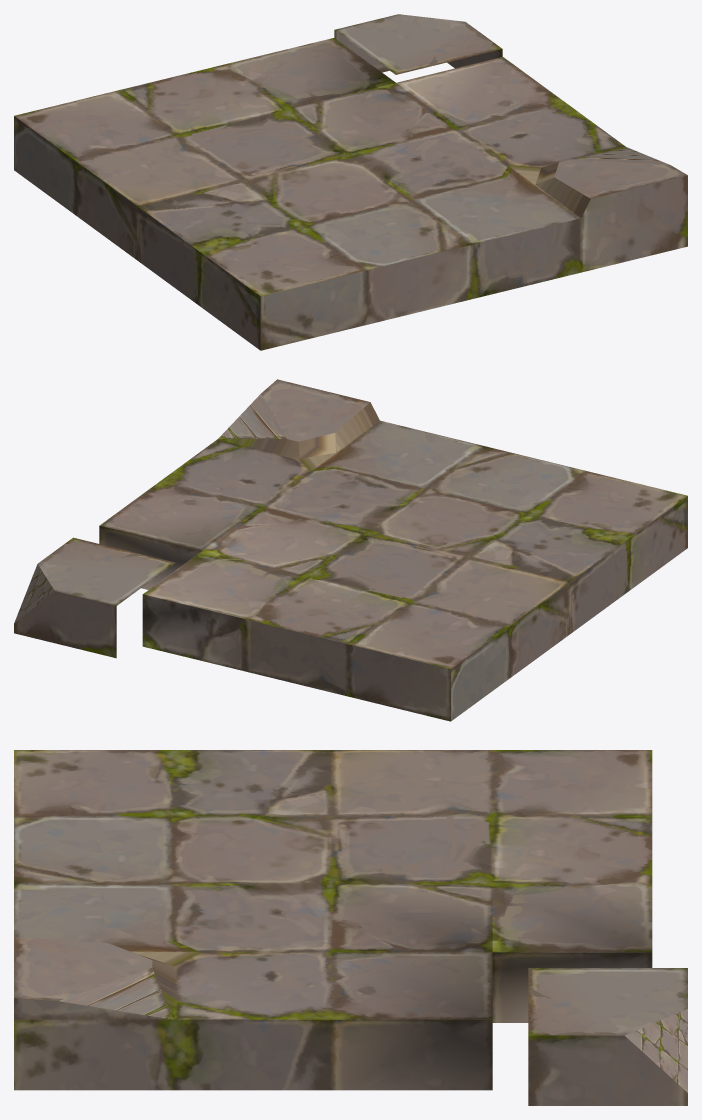
File: brokenTile_high.fbx
3 views of the same model, one above another, from view 1: azimuth 30°, elevation 25°; view 2: azimuth 150°, elevation 25°; view 3: azimuth 270°, elevation 25° (orthographic). The views are drawn at different scales.
Visible parts, largest first — view 1: Tile_broken_high; view 2: Tile_broken_high; view 3: Tile_broken_high.
Boxes of the visible parts, bbox=[...] form: Tile_broken_high: bbox=[14, 14, 687, 350]; Tile_broken_high: bbox=[14, 379, 687, 721]; Tile_broken_high: bbox=[14, 750, 687, 1105].
Size of the model in its own units: 1036 by 173 by 1060.
